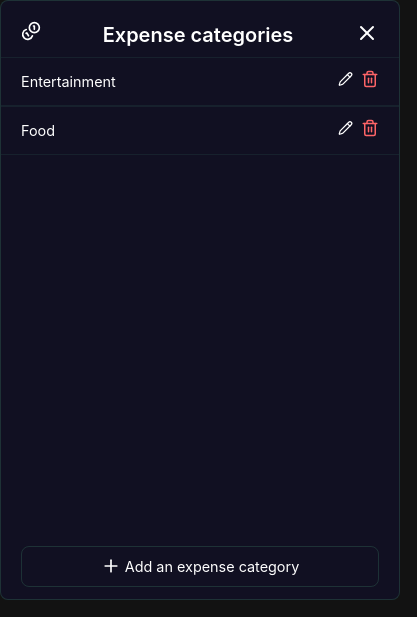
Test elements inside the expense categories modal › Check if adding an expense category works
Expected: the text "Entertainment" is shown, [21, 70, 116, 93]
Click the text "Add an expense category". click: (212, 566)
box: [125, 555, 299, 578]
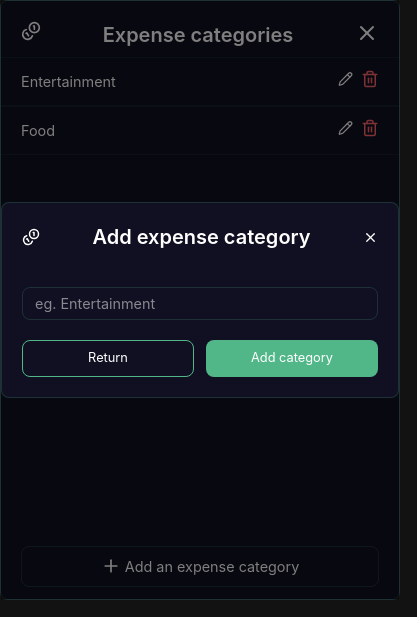
Now the text "Add expense category" is shown, box [92, 223, 311, 251]
Type "Savings" into the field with placeholder "eg. Entertainment". click: (200, 304)
box: [22, 287, 378, 320]
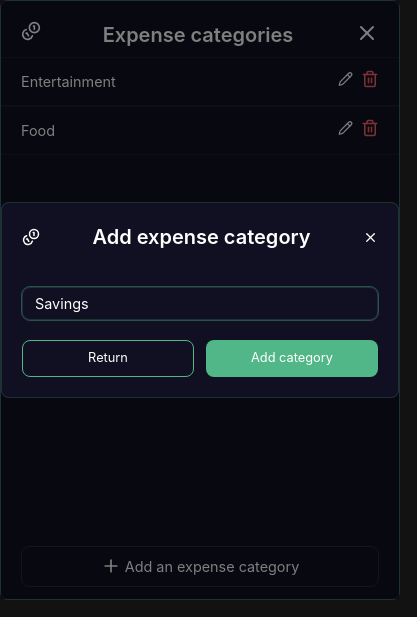
Click the button "Add category". click: (292, 359)
box: [206, 340, 378, 377]
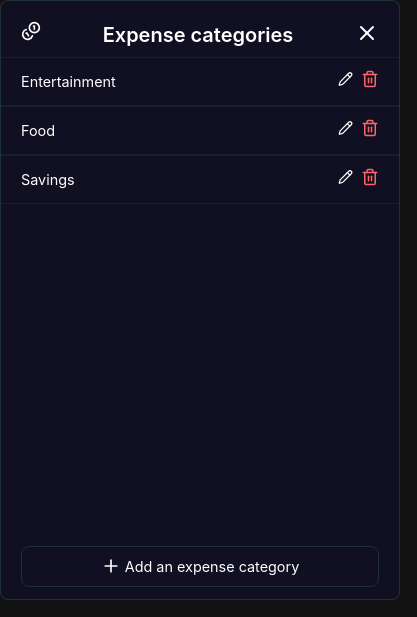
Now the text "Savings" is shown, box [21, 168, 75, 191]
